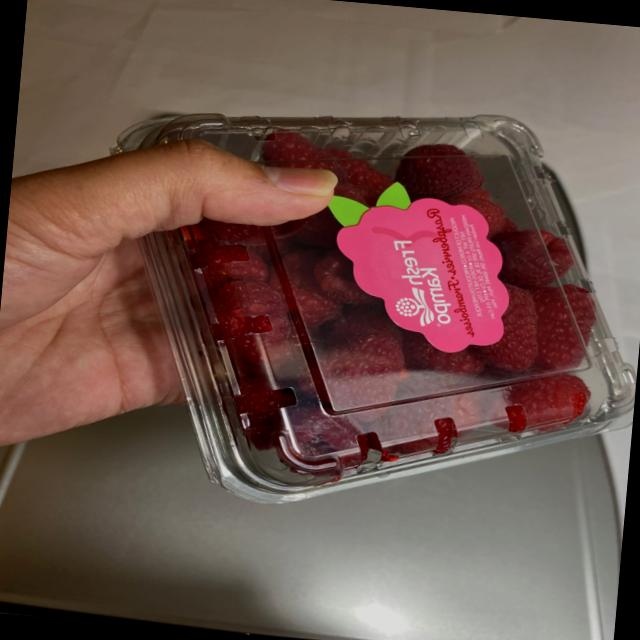raspberries: (222, 115, 640, 480)
